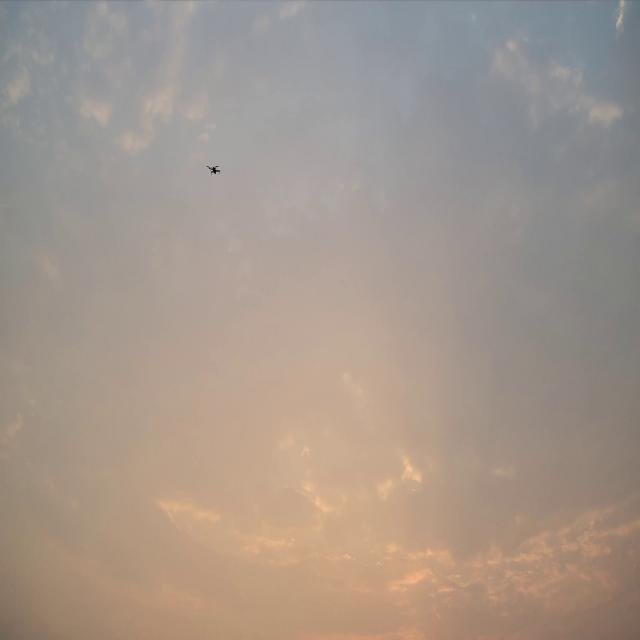UAV: (206, 165, 222, 175)
